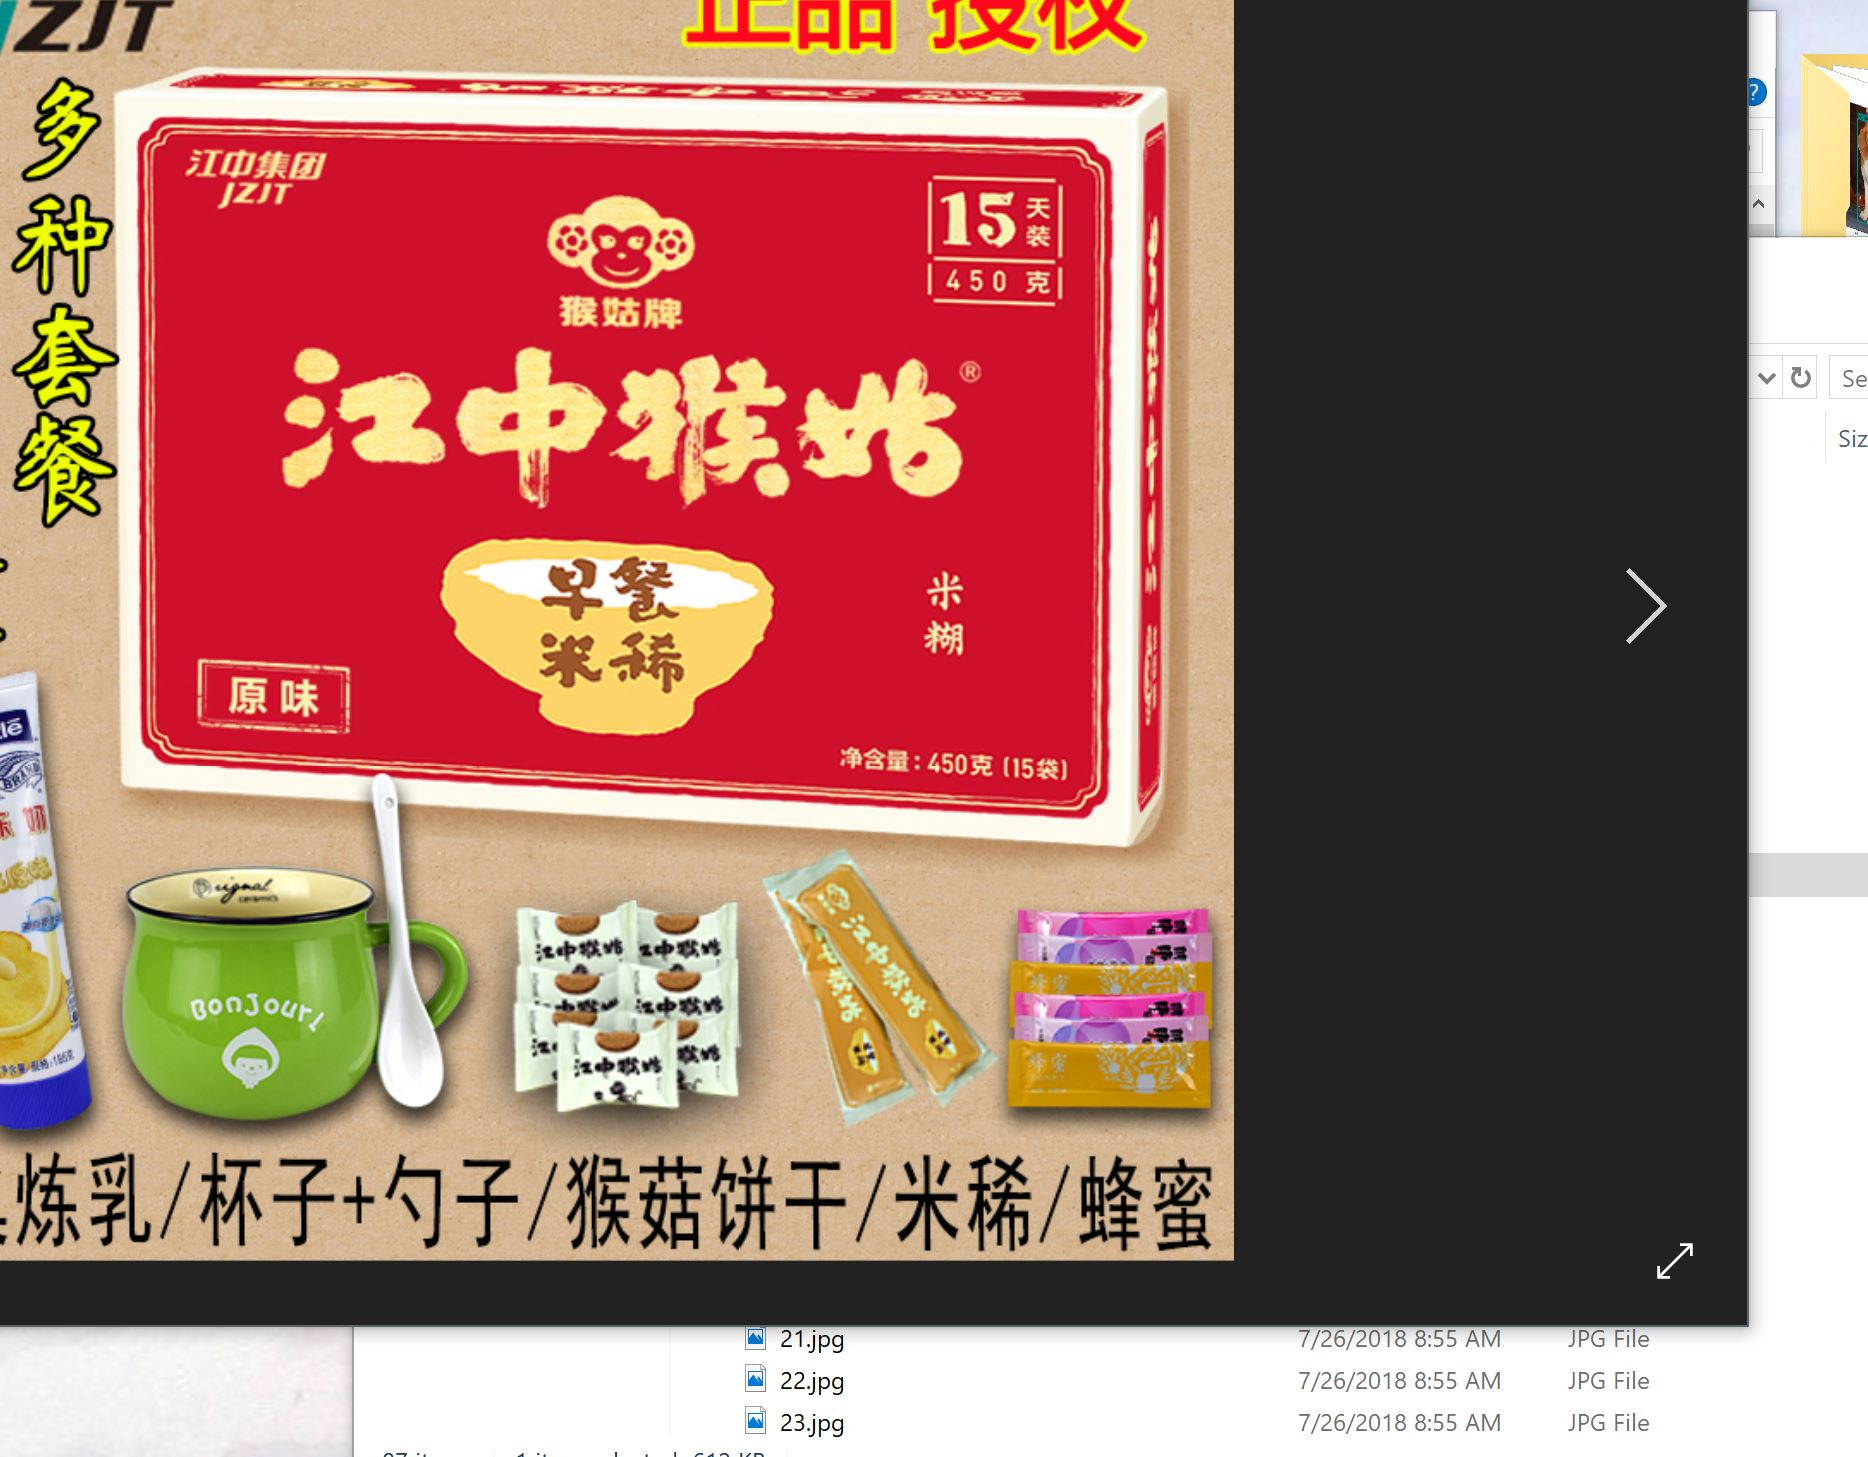box: (114, 70, 1171, 851)
